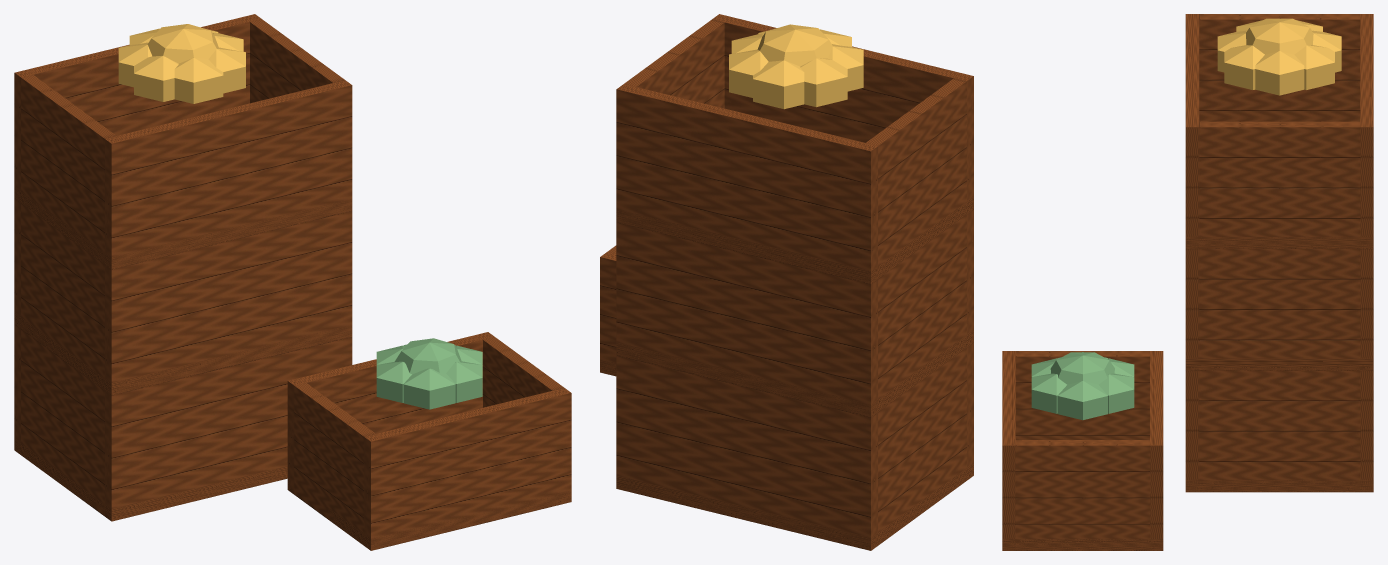
Rendered from indian-bazaar-street-and-temple-produce-crate-stack-a539d636.glb.
The picture shows the model from 3 angles, left to right: view 1: azimuth 30°, elevation 25°; view 2: azimuth 150°, elevation 25°; view 3: azimuth 270°, elevation 25°; orthographic projection. The views are drawn at different scales.
Visible parts, largest first — view 1: produce-crate-stack-timber, produce-crate-stack-saffron, produce-crate-stack-leaf; view 2: produce-crate-stack-timber, produce-crate-stack-saffron; view 3: produce-crate-stack-timber, produce-crate-stack-saffron, produce-crate-stack-leaf.
Part boxes in pixels (left/top/right/bottom): produce-crate-stack-timber: left=14, top=14, right=571, bottom=550; produce-crate-stack-saffron: left=118, top=24, right=245, bottom=103; produce-crate-stack-leaf: left=376, top=338, right=482, bottom=409; produce-crate-stack-timber: left=600, top=14, right=973, bottom=550; produce-crate-stack-saffron: left=729, top=24, right=863, bottom=109; produce-crate-stack-timber: left=1002, top=14, right=1373, bottom=550; produce-crate-stack-saffron: left=1217, top=18, right=1341, bottom=95; produce-crate-stack-leaf: left=1031, top=352, right=1134, bottom=420.
Bounding box in the file's own units: 0.91 × 1.02 × 0.83.
3 materials, 1 textured.
